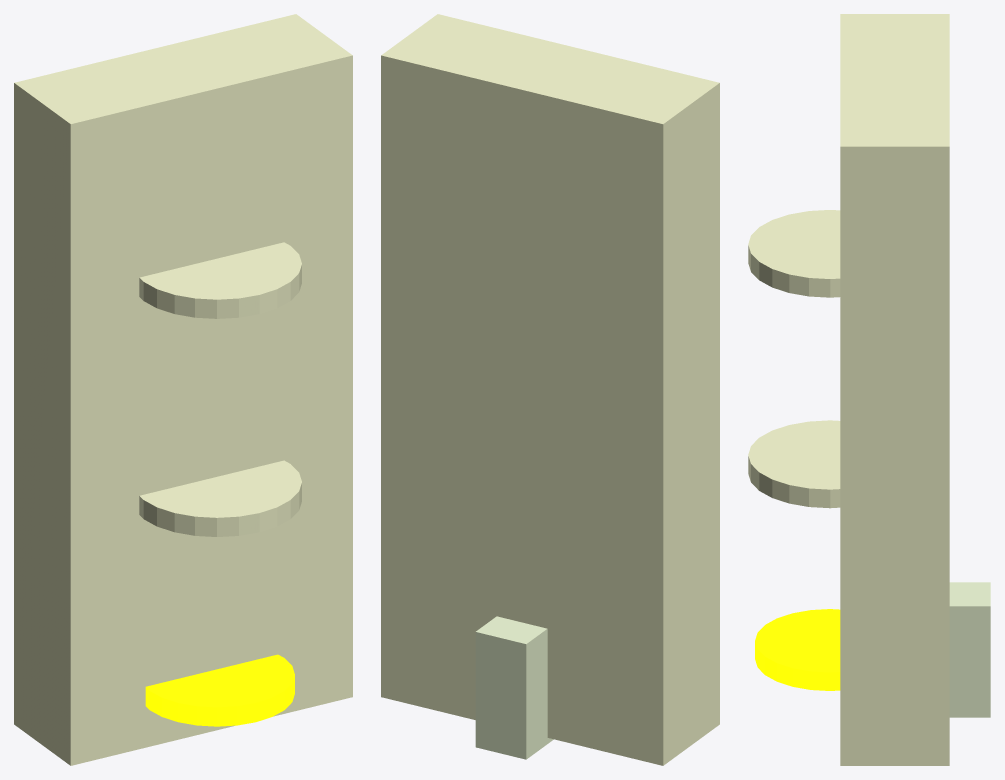
The model's file is signal_pedestrian_countdown_housing.glb.
3 views of the same model, side by side, from view 1: azimuth 30°, elevation 25°; view 2: azimuth 150°, elevation 25°; view 3: azimuth 270°, elevation 25° (orthographic). The views are drawn at different scales.
Visible parts, largest first — view 1: housing, lens_ped_red, lens_ped_white, display_countdown; view 2: housing, bracket; view 3: housing, lens_ped_white, lens_ped_red, display_countdown, bracket.
Boxes of the visible parts, left/top/right/bottom form: housing: left=14, top=14, right=352, bottom=765; lens_ped_red: left=139, top=242, right=301, bottom=318; lens_ped_white: left=139, top=460, right=301, bottom=536; display_countdown: left=145, top=654, right=294, bottom=726; housing: left=381, top=14, right=719, bottom=765; bracket: left=475, top=616, right=553, bottom=759; housing: left=840, top=14, right=949, bottom=765; lens_ped_white: left=748, top=420, right=840, bottom=508; lens_ped_red: left=748, top=210, right=840, bottom=297; display_countdown: left=755, top=609, right=840, bottom=690; bracket: left=949, top=582, right=990, bottom=717.
Size of the model in its own units: 0.46 by 1.01 by 0.355.
